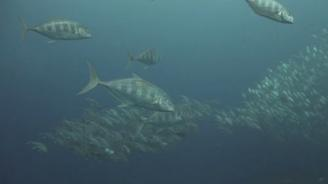Carangidae -Jacks-: (71, 55, 177, 113), (12, 7, 97, 45), (222, 0, 297, 25)
